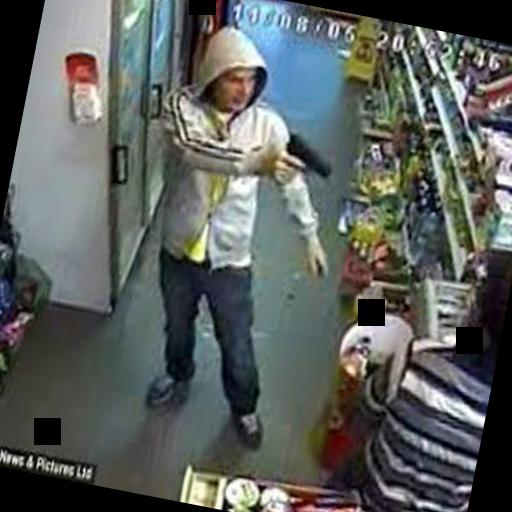Handgun: (268, 117, 344, 214)
